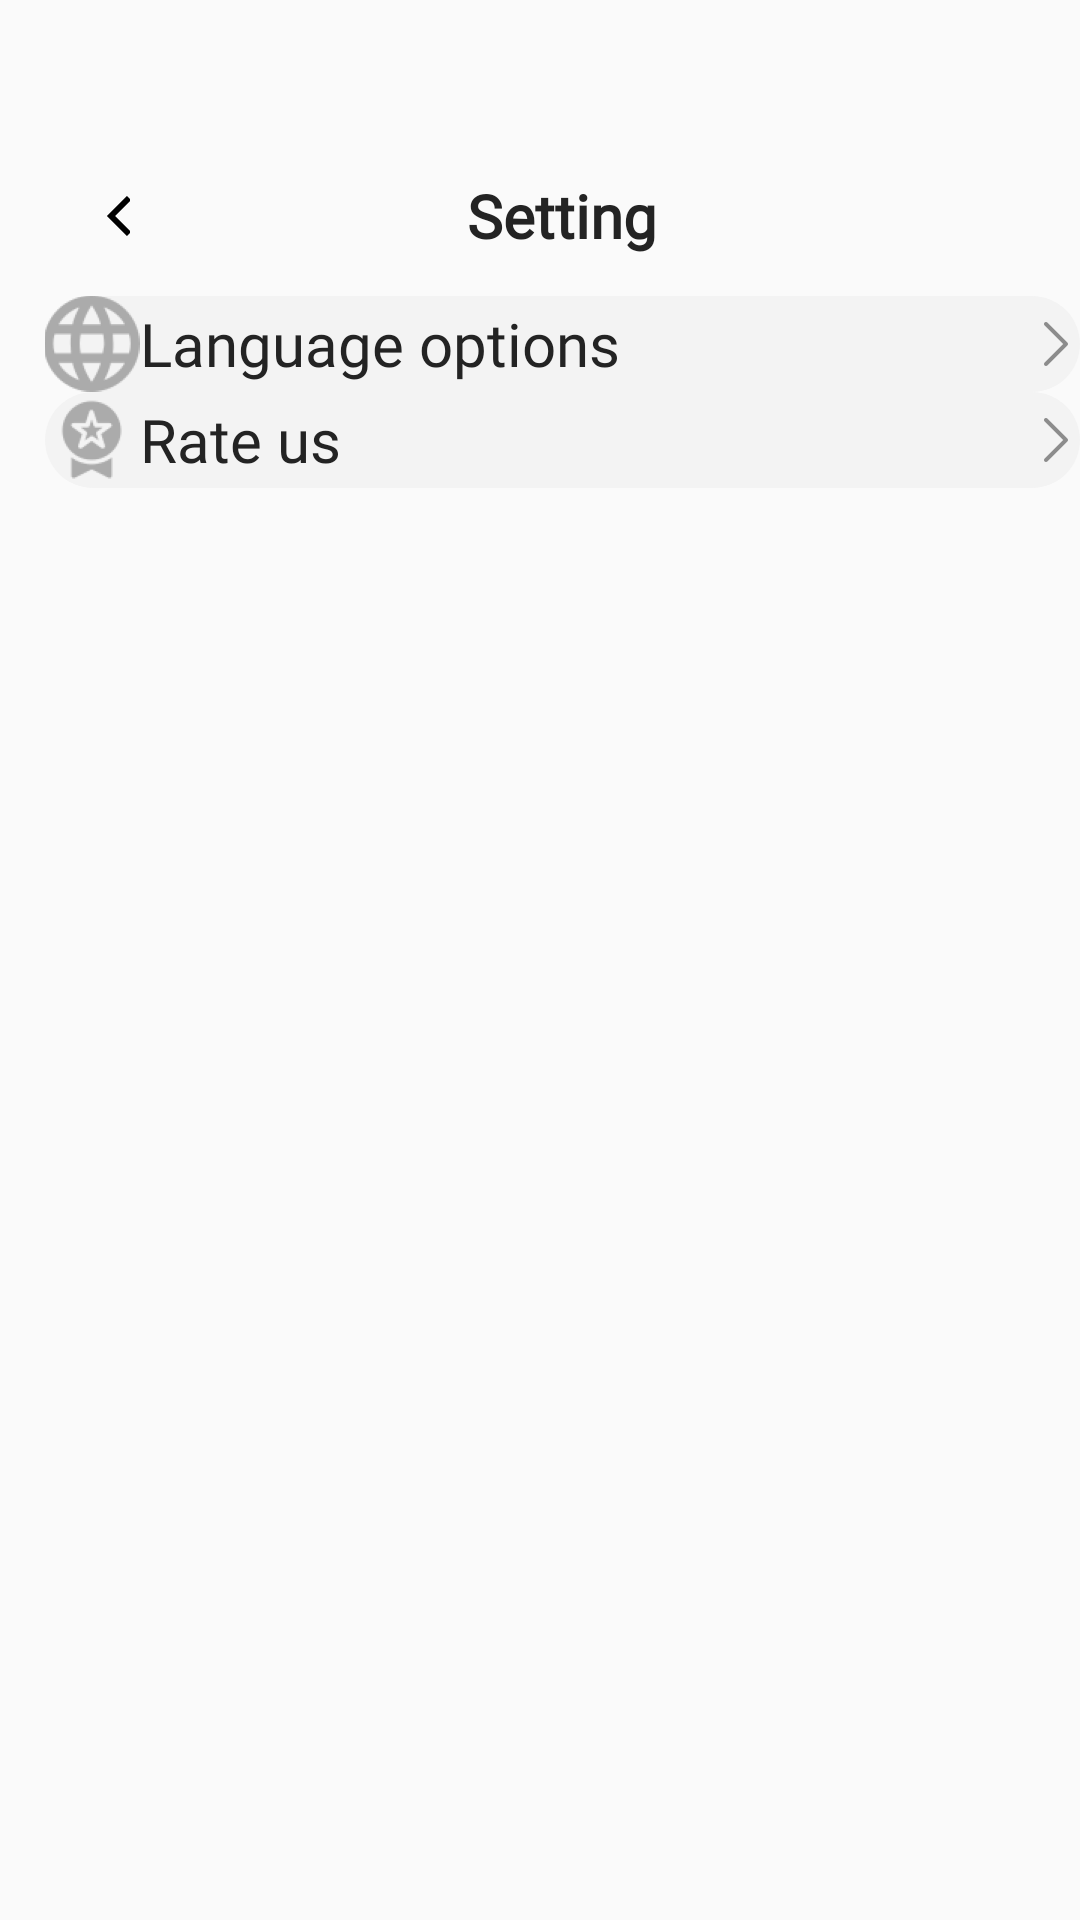

Screen size 1080×1920. Icon name, then its center in pixels as point (x, y):
back bk: point (118, 216)
